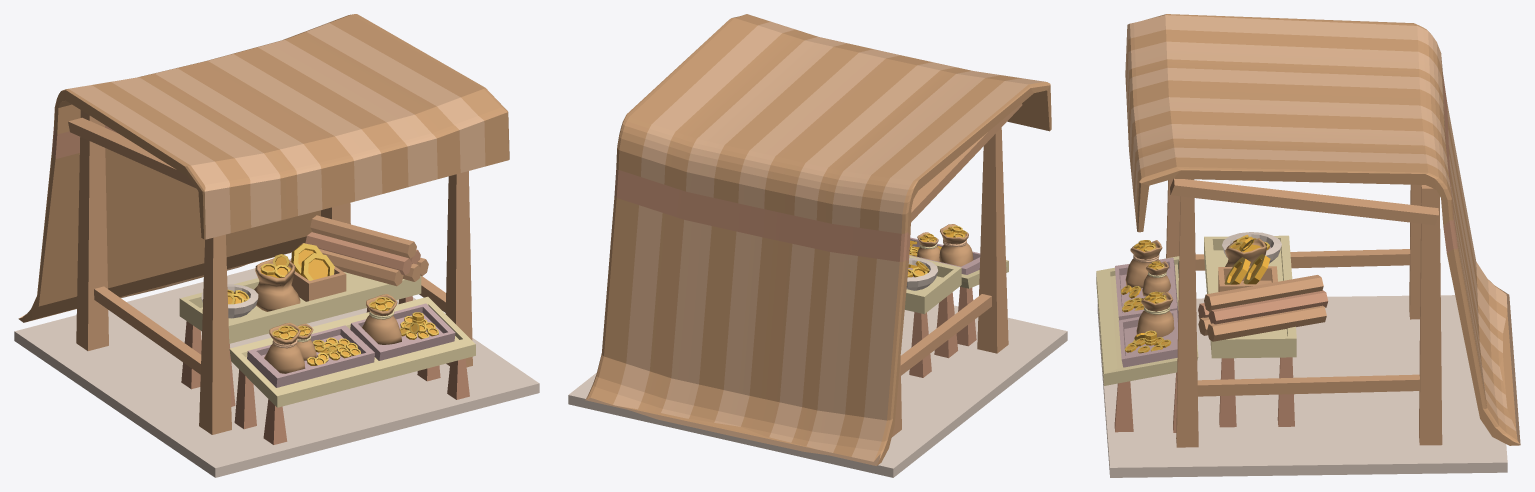
Rendered from coin exchange shop.fbx.
3 renders of one model, left to right at view 1: azimuth 30°, elevation 25°; view 2: azimuth 150°, elevation 25°; view 3: azimuth 270°, elevation 25°, orthographic. The views are drawn at different scales.
Visible parts, largest first — view 1: polySurface24, shop_base_01, polySurface9, polySurface17, polySurface16, polySurface4, polySurface15, polySurface14, polySurface22, polySurface2, polySurface19, pCylinder6 (+12 smaller); view 2: polySurface24, shop_base_01, polySurface16, polySurface22, polySurface19, polySurface4, pCube1, polySurface7, polySurface3, polySurface12, polySurface13; view 3: polySurface24, shop_base_01, polySurface18, polySurface20, polySurface15, polySurface21, polySurface4, polySurface9, polySurface22, pCylinder4, pCylinder6, pCylinder5 (+14 smaller).
Boxes of the visible parts, box(x1,y1,x2,y2) form: polySurface24: box(18, 14, 509, 322); shop_base_01: box(14, 259, 539, 477); polySurface9: box(229, 296, 475, 407); polySurface17: box(76, 110, 108, 350); polySurface16: box(199, 234, 231, 434); polySurface4: box(179, 272, 421, 343); polySurface15: box(445, 171, 472, 367); polySurface14: box(247, 325, 374, 387); polySurface22: box(94, 286, 201, 374); polySurface2: box(350, 303, 455, 360); polySurface19: box(68, 117, 195, 187); pCylinder6: box(310, 215, 416, 258); polySurface24: box(585, 14, 1051, 465); shop_base_01: box(568, 303, 1067, 477); polySurface16: box(977, 127, 1008, 353); polySurface22: box(900, 294, 991, 375); polySurface19: box(911, 104, 1022, 222); polySurface4: box(904, 255, 961, 314); pCube1: box(939, 224, 973, 266); polySurface7: box(909, 312, 931, 377); polySurface3: box(934, 292, 957, 358); polySurface12: box(956, 286, 976, 346); polySurface13: box(906, 258, 937, 290); polySurface24: box(1125, 14, 1520, 445); shop_base_01: box(1097, 295, 1507, 477); polySurface18: box(1419, 185, 1442, 445); polySurface20: box(1170, 178, 1438, 225); polySurface15: box(1176, 179, 1198, 447); polySurface21: box(1197, 374, 1419, 396); polySurface4: box(1204, 235, 1296, 358); polySurface9: box(1096, 256, 1198, 385); polySurface22: box(1195, 249, 1410, 270); pCylinder4: box(1207, 305, 1326, 341); pCylinder6: box(1204, 275, 1323, 311); pCylinder5: box(1208, 290, 1328, 324).
Size of the model in its own units: 10.17 by 8.18 by 10.52.
